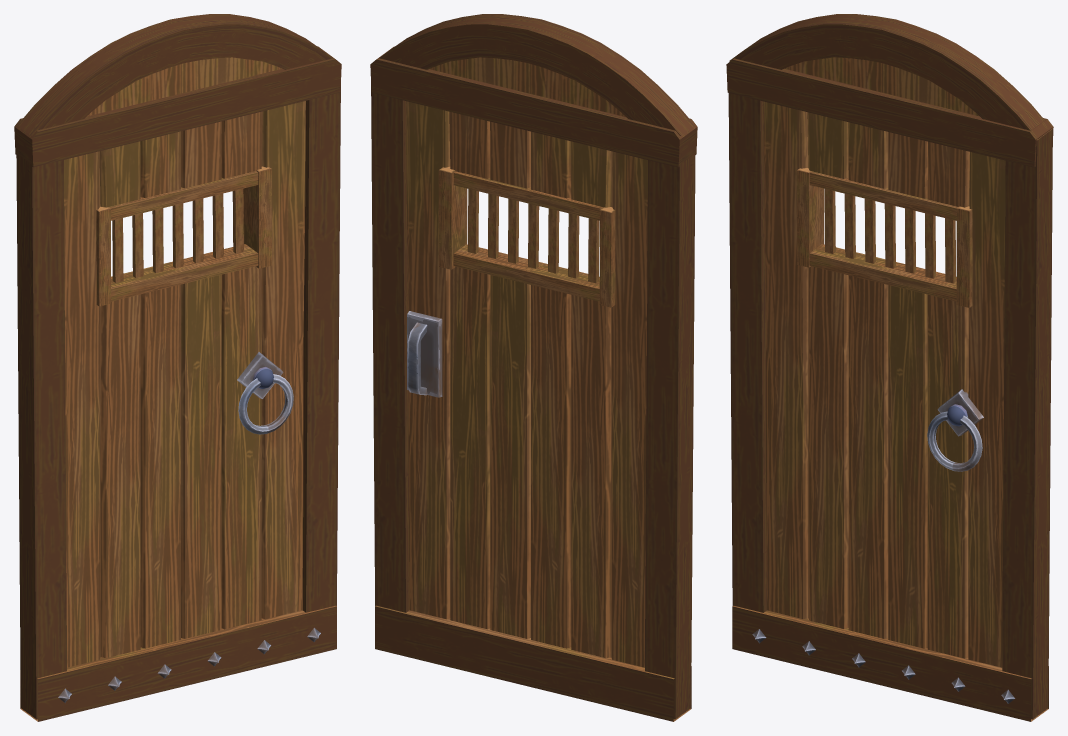
Rendered from Door_8_Round.obj.
The picture shows the model from 3 angles, left to right: view 1: azimuth 30°, elevation 25°; view 2: azimuth 150°, elevation 25°; view 3: azimuth 330°, elevation 25°; orthographic projection.
Parts seen in each view (by area): view 1: Door_8_Round; view 2: Door_8_Round; view 3: Door_8_Round.
Boxes of the visible parts, x1,y1,x2,y2 form: Door_8_Round: (14, 14, 341, 721); Door_8_Round: (370, 14, 697, 721); Door_8_Round: (726, 14, 1053, 721).
Bounding box in the file's own units: 1.15 × 2.32 × 0.1995.
